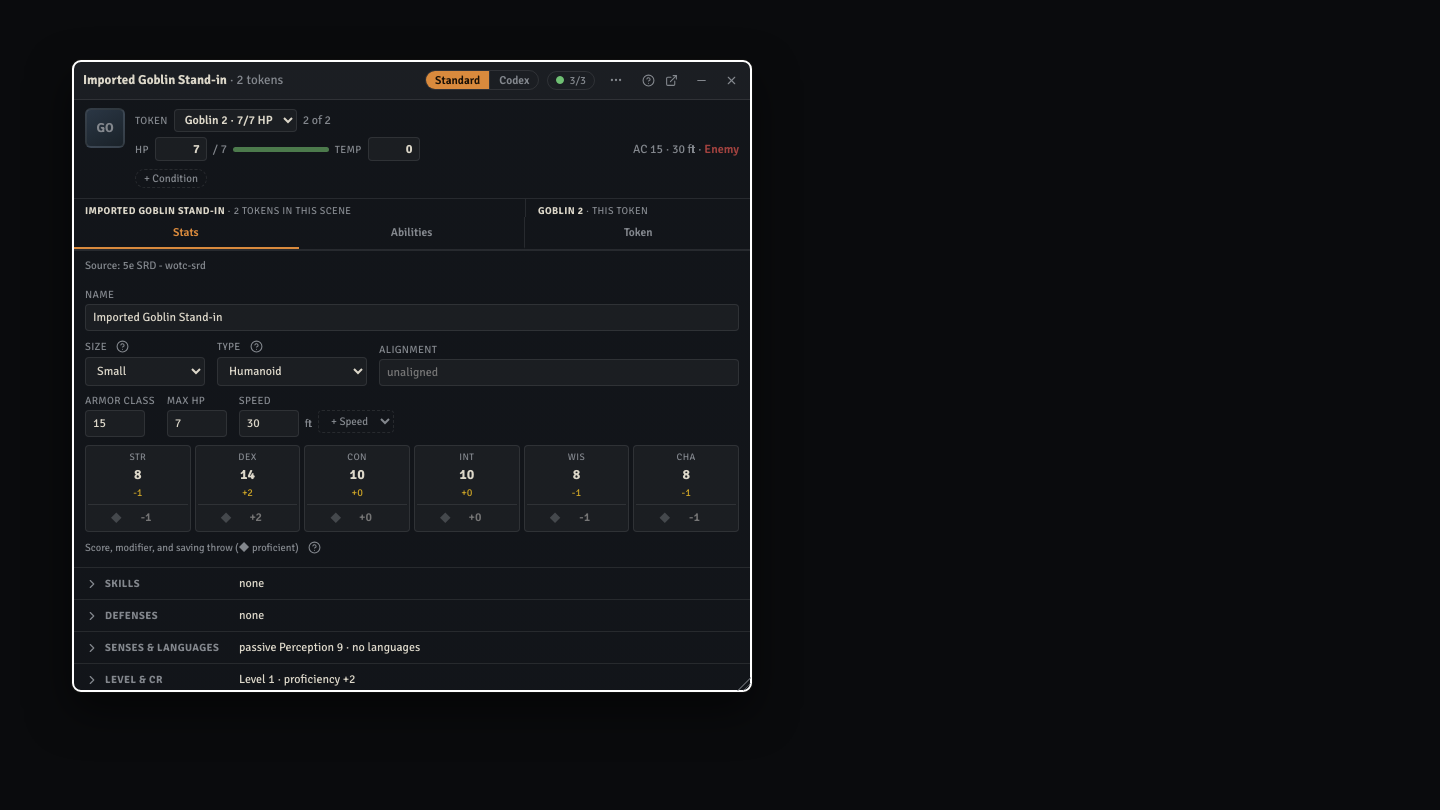
Scenario: the tabs › Token holds the tactics; its HP and conditions moved up to the vitals
This screenshot has width=1440, height=810.
Click the tab "Token" at [638, 233], box [524,217,751,249]
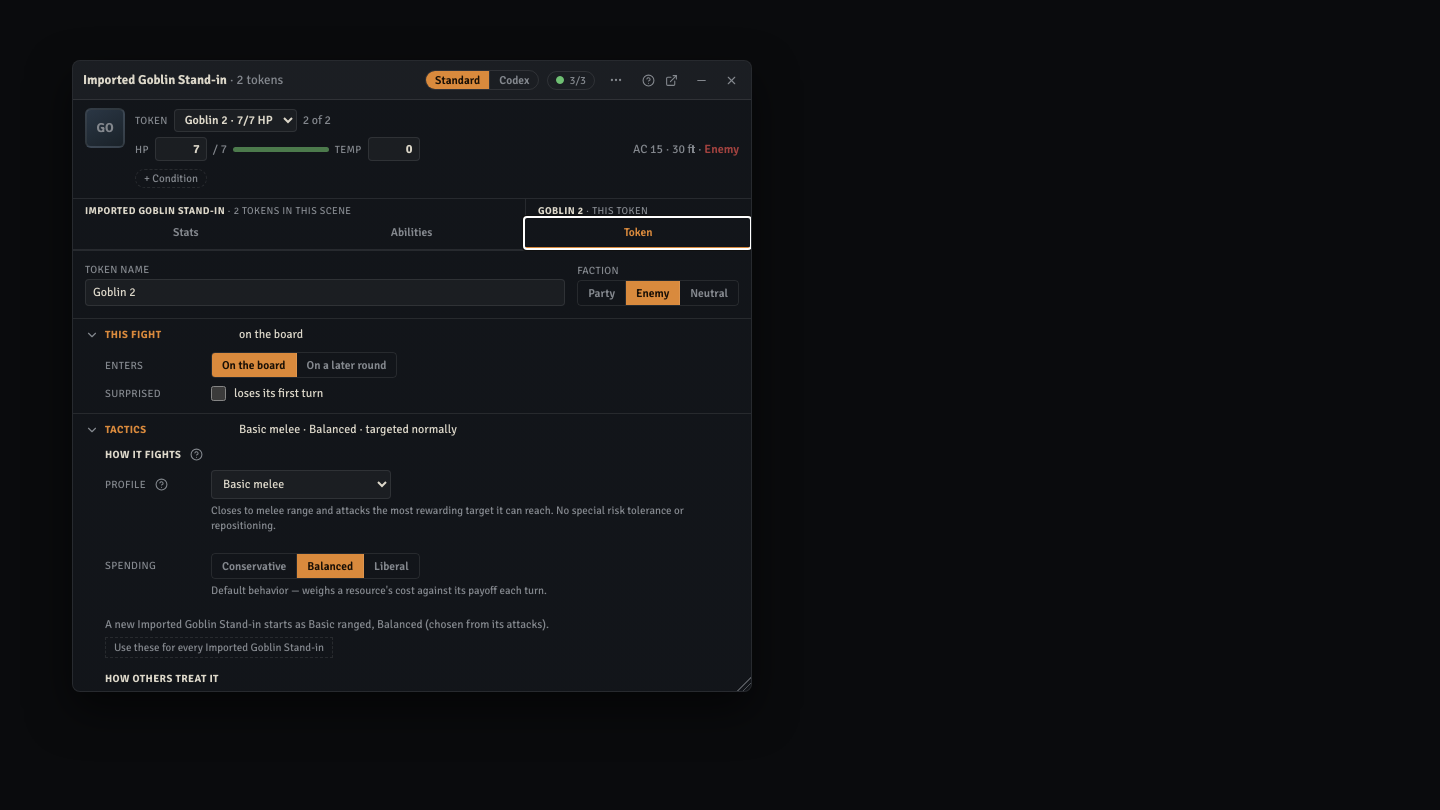
Result: the dropdown named "Tactics profile" is shown at [211,470,391,499]
